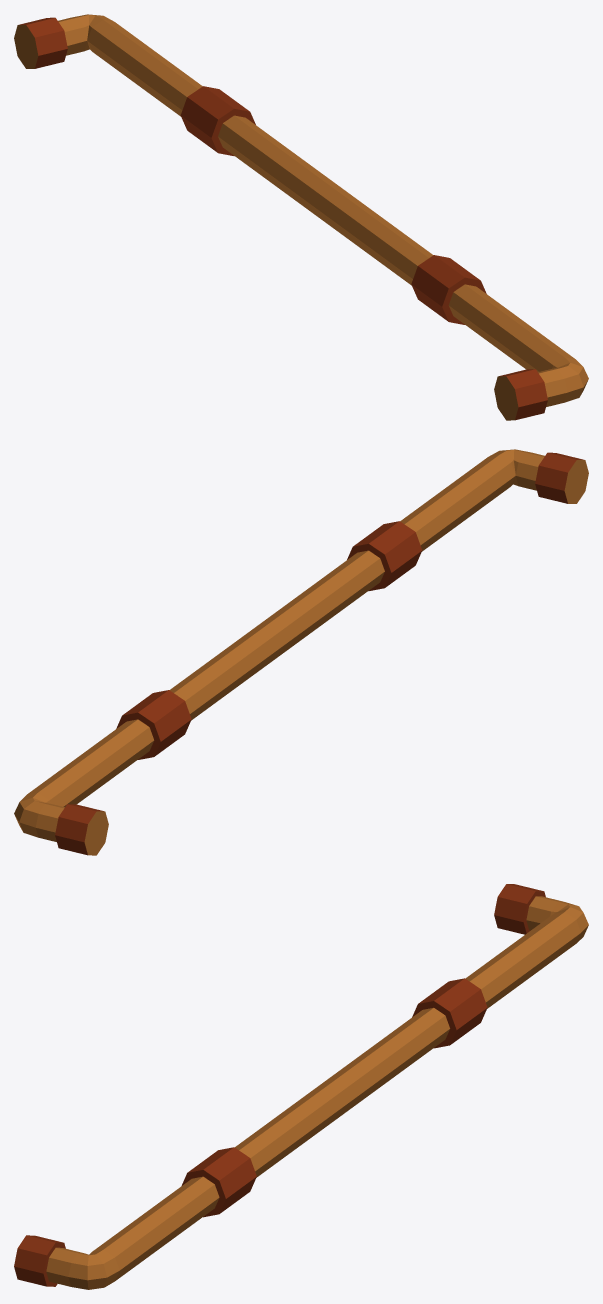
Rendered from Pipeline.001.glb.
3 renders of one model, top to bottom at view 1: azimuth 30°, elevation 25°; view 2: azimuth 150°, elevation 25°; view 3: azimuth 330°, elevation 25°, orthographic.
Visible parts, largest first — view 1: Pipeline.001; view 2: Pipeline.001; view 3: Pipeline.001.
Boxes of the visible parts, x1,y1,x2,y2 form: Pipeline.001: (14,14,588,420); Pipeline.001: (14,449,588,855); Pipeline.001: (14,884,588,1289).
Bounding box in the file's own units: 2.98 × 1.5 × 28.75.
